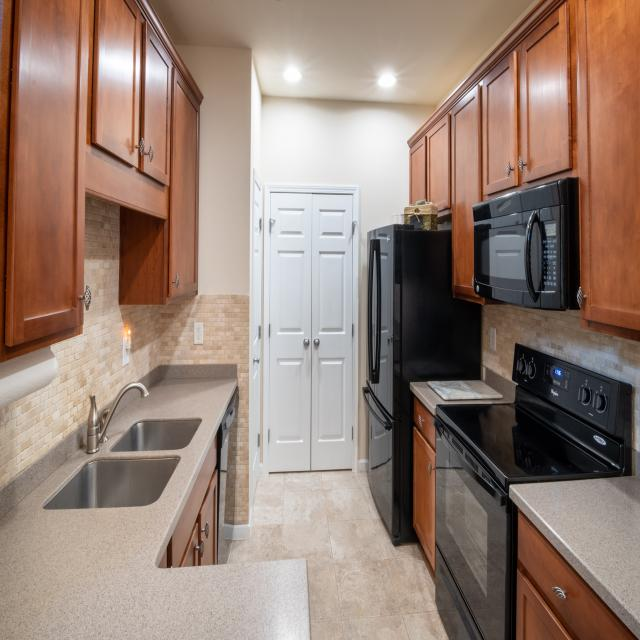Appliance_Dishwasher: (214, 388, 237, 565)
Appliance_Fridge: (363, 225, 481, 548)
Appliance_Microwave: (472, 176, 580, 312)
Appliance_Oven: (435, 344, 632, 640)
Appliance_Sink: (44, 383, 203, 510)
Cabinet_Flat: (518, 513, 638, 640), (162, 437, 216, 567), (414, 398, 434, 446)
Cabinet_Shaker: (409, 0, 640, 334), (3, 0, 198, 349), (174, 455, 220, 567), (513, 573, 576, 640), (412, 428, 435, 567)
Countertop_Granite: (0, 379, 310, 640), (505, 475, 640, 640), (410, 381, 512, 416)
